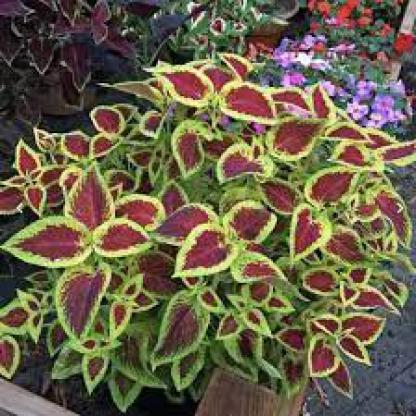Bunga Coleus: (31, 86, 387, 362)
